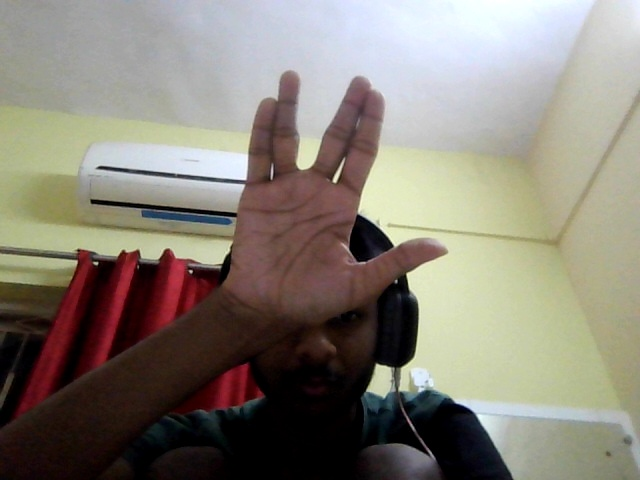LiveLong: (239, 71, 449, 323)
